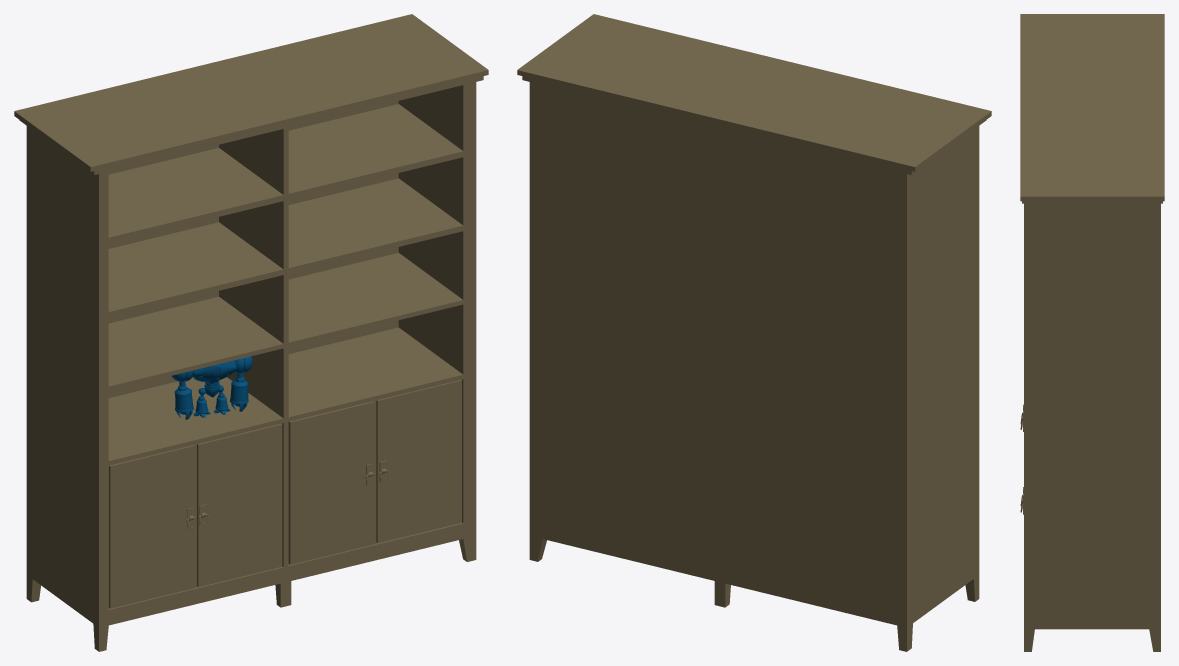
The model's file is Robot.fbx.
3 views of the same model, side by side, from view 1: azimuth 30°, elevation 25°; view 2: azimuth 150°, elevation 25°; view 3: azimuth 270°, elevation 25° (orthographic). The views are drawn at different scales.
Parts seen in each view (by area): view 1: bookshelf_low_03, Robot; view 2: bookshelf_low_03; view 3: bookshelf_low_03.
Boxes of the visible parts, box(x1,y1,x2,y2) form: bookshelf_low_03: box(14, 14, 488, 651); Robot: box(171, 356, 252, 419); bookshelf_low_03: box(517, 14, 991, 651); bookshelf_low_03: box(1020, 14, 1164, 651).
Bounding box in the file's own units: 1.86 × 2.19 × 0.6212.
